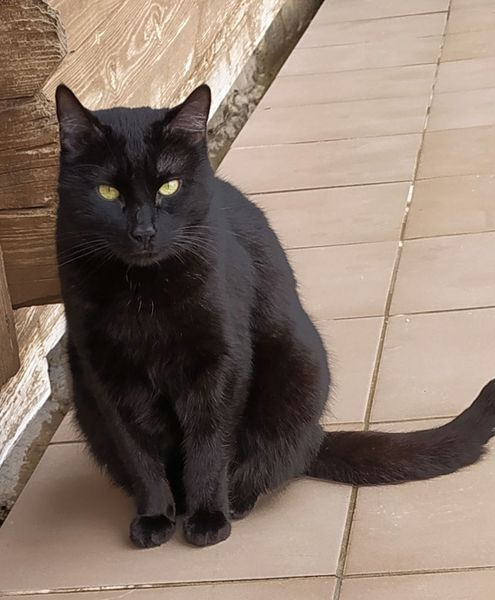cat: (30, 71, 491, 556)
